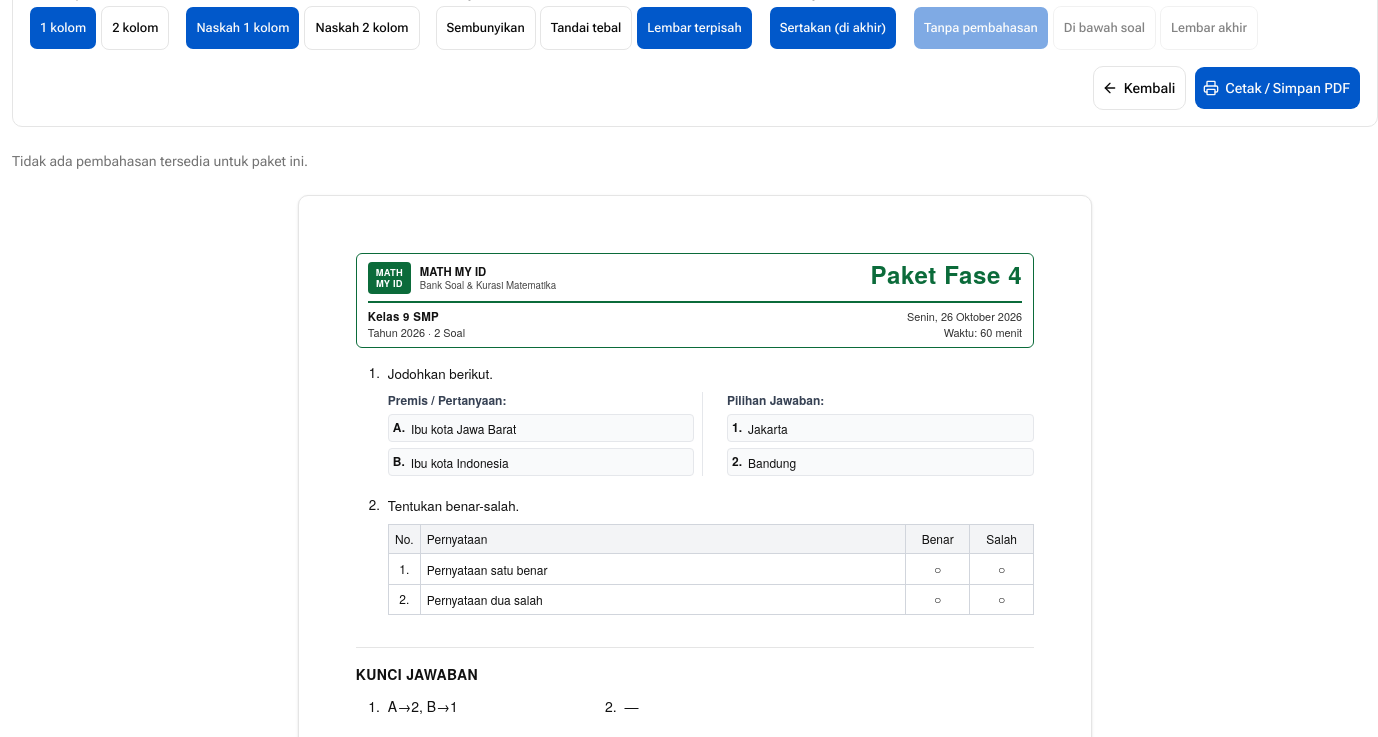
Test case: BundlePrintView — Fase 4 (penyatuan label dengan detail) › kunci matching inline menampilkan LABEL respons, bukan ID mentah
Click the button "Tandai tebal". click: [586, 28]
box: [540, 6, 632, 50]
(page scrolled)
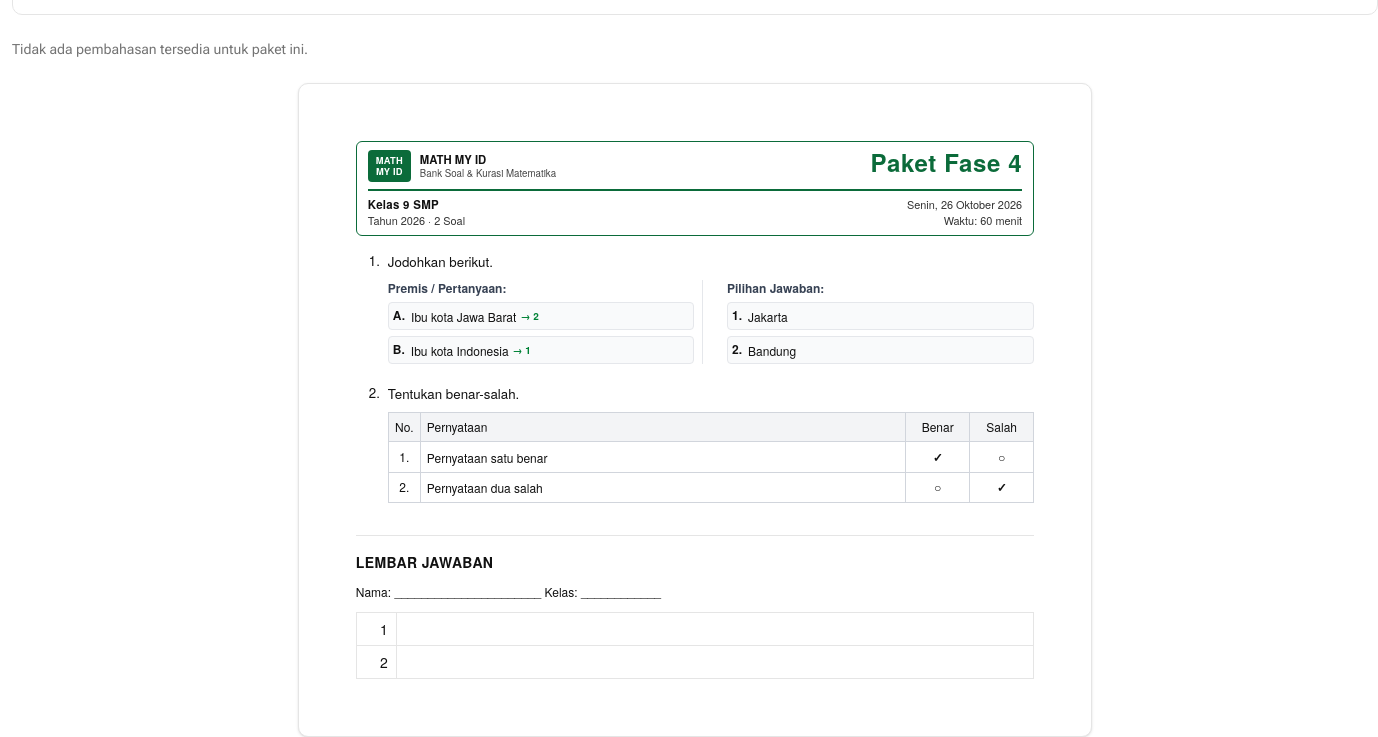
expect the element that starts with "MATH" shows "→ 2": met, box [298, 83, 1092, 736]
expect the element that starts with "MATH" shows "→ 1": met, box [298, 83, 1092, 736]
